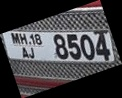character: (52, 33, 69, 60), (95, 33, 111, 61), (66, 33, 81, 60), (80, 33, 95, 60), (10, 32, 20, 44), (19, 33, 28, 45), (34, 33, 42, 45), (21, 46, 29, 58), (28, 46, 35, 58), (29, 33, 35, 45)
